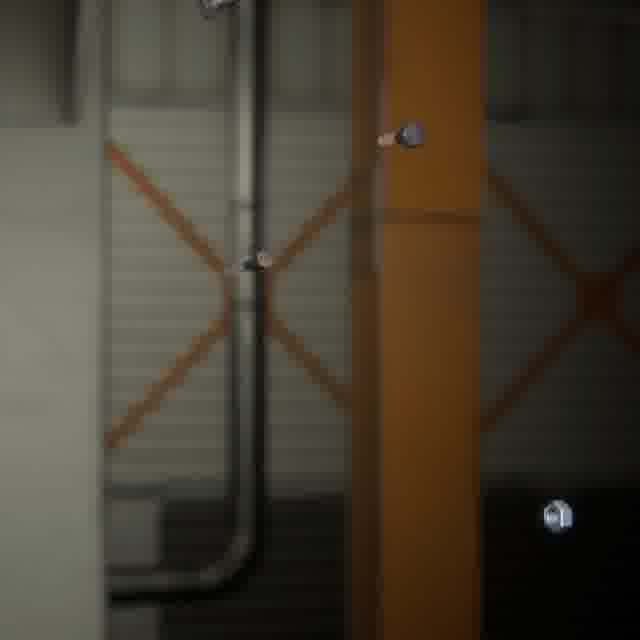bolt: (216, 243, 279, 281), (372, 117, 430, 152), (191, 0, 249, 26)
nut: (539, 496, 576, 537)
